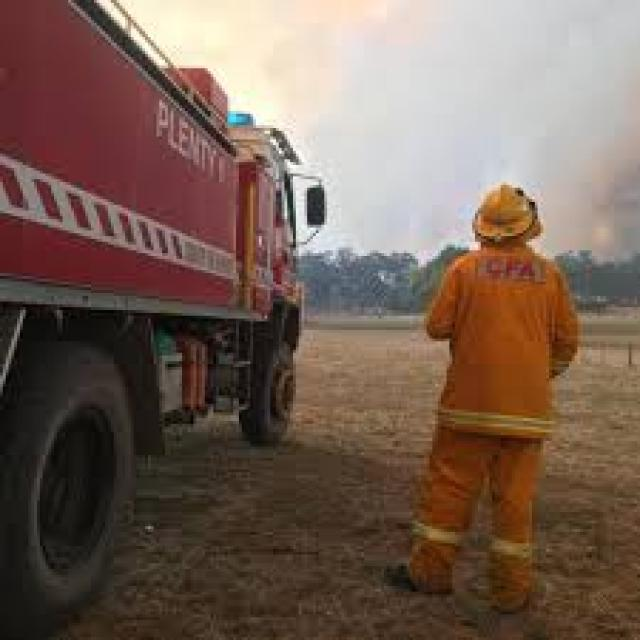Fire_brigade: (0, 0, 321, 620)
